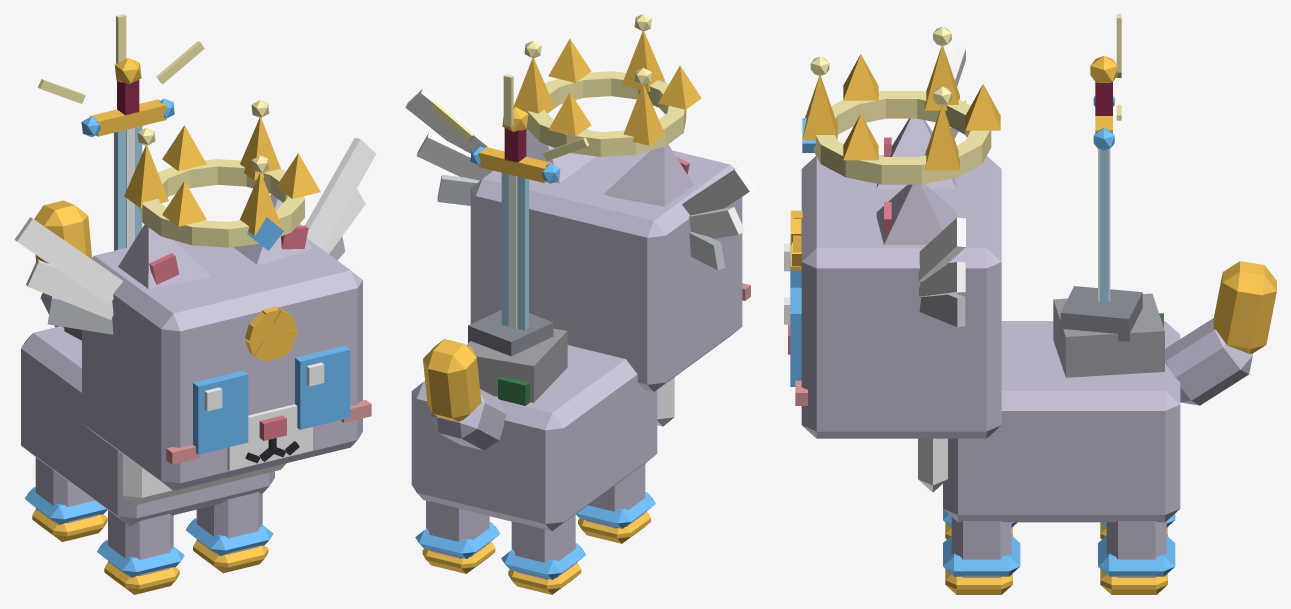
The model's file is CatCafe_Cat_Excalipurr.glb.
The picture shows the model from 3 angles, left to right: view 1: azimuth 30°, elevation 25°; view 2: azimuth 150°, elevation 25°; view 3: azimuth 270°, elevation 25°; orthographic projection. The views are drawn at different scales.
Visible parts, largest first — view 1: CatCafe_Cat_Excalipurr_Head, CatCafe_Cat_Excalipurr_Prop, CatCafe_Cat_Excalipurr_Body, CatCafe_Cat_Excalipurr_Glow, CatCafe_Cat_Excalipurr_LegF2, CatCafe_Cat_Excalipurr_LegF1, CatCafe_Cat_Excalipurr_Blade_Glow, CatCafe_Cat_Excalipurr_Eye2, CatCafe_Cat_Excalipurr_Eye1, CatCafe_Cat_Excalipurr_LegB2, CatCafe_Cat_Excalipurr_Prop2, CatCafe_Cat_Excalipurr_EarR (+2 smaller); view 2: CatCafe_Cat_Excalipurr_Head, CatCafe_Cat_Excalipurr_Body, CatCafe_Cat_Excalipurr_Prop, CatCafe_Cat_Excalipurr_Prop2, CatCafe_Cat_Excalipurr_Glow, CatCafe_Cat_Excalipurr_Tail, CatCafe_Cat_Excalipurr_Blade_Glow, CatCafe_Cat_Excalipurr_LegB2, CatCafe_Cat_Excalipurr_LegB1, CatCafe_Cat_Excalipurr_LegF2, CatCafe_Cat_Excalipurr_EarR, CatCafe_Cat_Excalipurr_EarL; view 3: CatCafe_Cat_Excalipurr_Head, CatCafe_Cat_Excalipurr_Body, CatCafe_Cat_Excalipurr_Prop, CatCafe_Cat_Excalipurr_Prop2, CatCafe_Cat_Excalipurr_Tail, CatCafe_Cat_Excalipurr_Glow, CatCafe_Cat_Excalipurr_LegF1, CatCafe_Cat_Excalipurr_LegB1, CatCafe_Cat_Excalipurr_EarL, CatCafe_Cat_Excalipurr_Blade_Glow, CatCafe_Cat_Excalipurr_EarR, CatCafe_Cat_Excalipurr_Eye1.
Boxes of the visible parts, bbox=[...] form: CatCafe_Cat_Excalipurr_Head: bbox=[82, 239, 371, 490]; CatCafe_Cat_Excalipurr_Prop: bbox=[14, 118, 376, 334]; CatCafe_Cat_Excalipurr_Body: bbox=[21, 326, 286, 525]; CatCafe_Cat_Excalipurr_Glow: bbox=[137, 100, 304, 250]; CatCafe_Cat_Excalipurr_LegF2: bbox=[97, 510, 184, 594]; CatCafe_Cat_Excalipurr_LegF1: bbox=[186, 492, 273, 573]; CatCafe_Cat_Excalipurr_Blade_Glow: bbox=[38, 14, 204, 250]; CatCafe_Cat_Excalipurr_Eye2: bbox=[193, 370, 248, 454]; CatCafe_Cat_Excalipurr_Eye1: bbox=[295, 346, 350, 429]; CatCafe_Cat_Excalipurr_LegB2: bbox=[25, 457, 107, 541]; CatCafe_Cat_Excalipurr_Prop2: bbox=[63, 58, 174, 340]; CatCafe_Cat_Excalipurr_EarR: bbox=[118, 224, 210, 288]; CatCafe_Cat_Excalipurr_Head: bbox=[470, 129, 750, 391]; CatCafe_Cat_Excalipurr_Body: bbox=[411, 345, 674, 531]; CatCafe_Cat_Excalipurr_Prop: bbox=[405, 31, 755, 270]; CatCafe_Cat_Excalipurr_Prop2: bbox=[467, 107, 567, 405]; CatCafe_Cat_Excalipurr_Glow: bbox=[524, 14, 686, 156]; CatCafe_Cat_Excalipurr_Tail: bbox=[423, 339, 506, 450]; CatCafe_Cat_Excalipurr_Blade_Glow: bbox=[428, 74, 588, 330]; CatCafe_Cat_Excalipurr_LegB2: bbox=[501, 514, 585, 594]; CatCafe_Cat_Excalipurr_LegB1: bbox=[415, 500, 500, 573]; CatCafe_Cat_Excalipurr_LegF2: bbox=[576, 463, 655, 543]; CatCafe_Cat_Excalipurr_EarR: bbox=[604, 144, 693, 206]; CatCafe_Cat_Excalipurr_EarL: bbox=[526, 128, 595, 183]; CatCafe_Cat_Excalipurr_Head: bbox=[788, 155, 1001, 438]; CatCafe_Cat_Excalipurr_Body: bbox=[918, 321, 1180, 522]; CatCafe_Cat_Excalipurr_Prop: bbox=[802, 46, 1000, 327]; CatCafe_Cat_Excalipurr_Prop2: bbox=[1053, 56, 1164, 377]; CatCafe_Cat_Excalipurr_Tail: bbox=[1165, 261, 1276, 405]; CatCafe_Cat_Excalipurr_Glow: bbox=[802, 27, 991, 184]; CatCafe_Cat_Excalipurr_LegF1: bbox=[943, 517, 1020, 594]; CatCafe_Cat_Excalipurr_LegB1: bbox=[1098, 521, 1175, 594]; CatCafe_Cat_Excalipurr_EarL: bbox=[876, 184, 956, 244]; CatCafe_Cat_Excalipurr_Blade_Glow: bbox=[1098, 14, 1121, 305]; CatCafe_Cat_Excalipurr_EarR: bbox=[876, 118, 956, 188]; CatCafe_Cat_Excalipurr_Eye1: bbox=[784, 287, 801, 386].
Size of the model in its own units: 1.78 by 2.41 by 1.97.
Materials: 1 (1 with a texture image).
